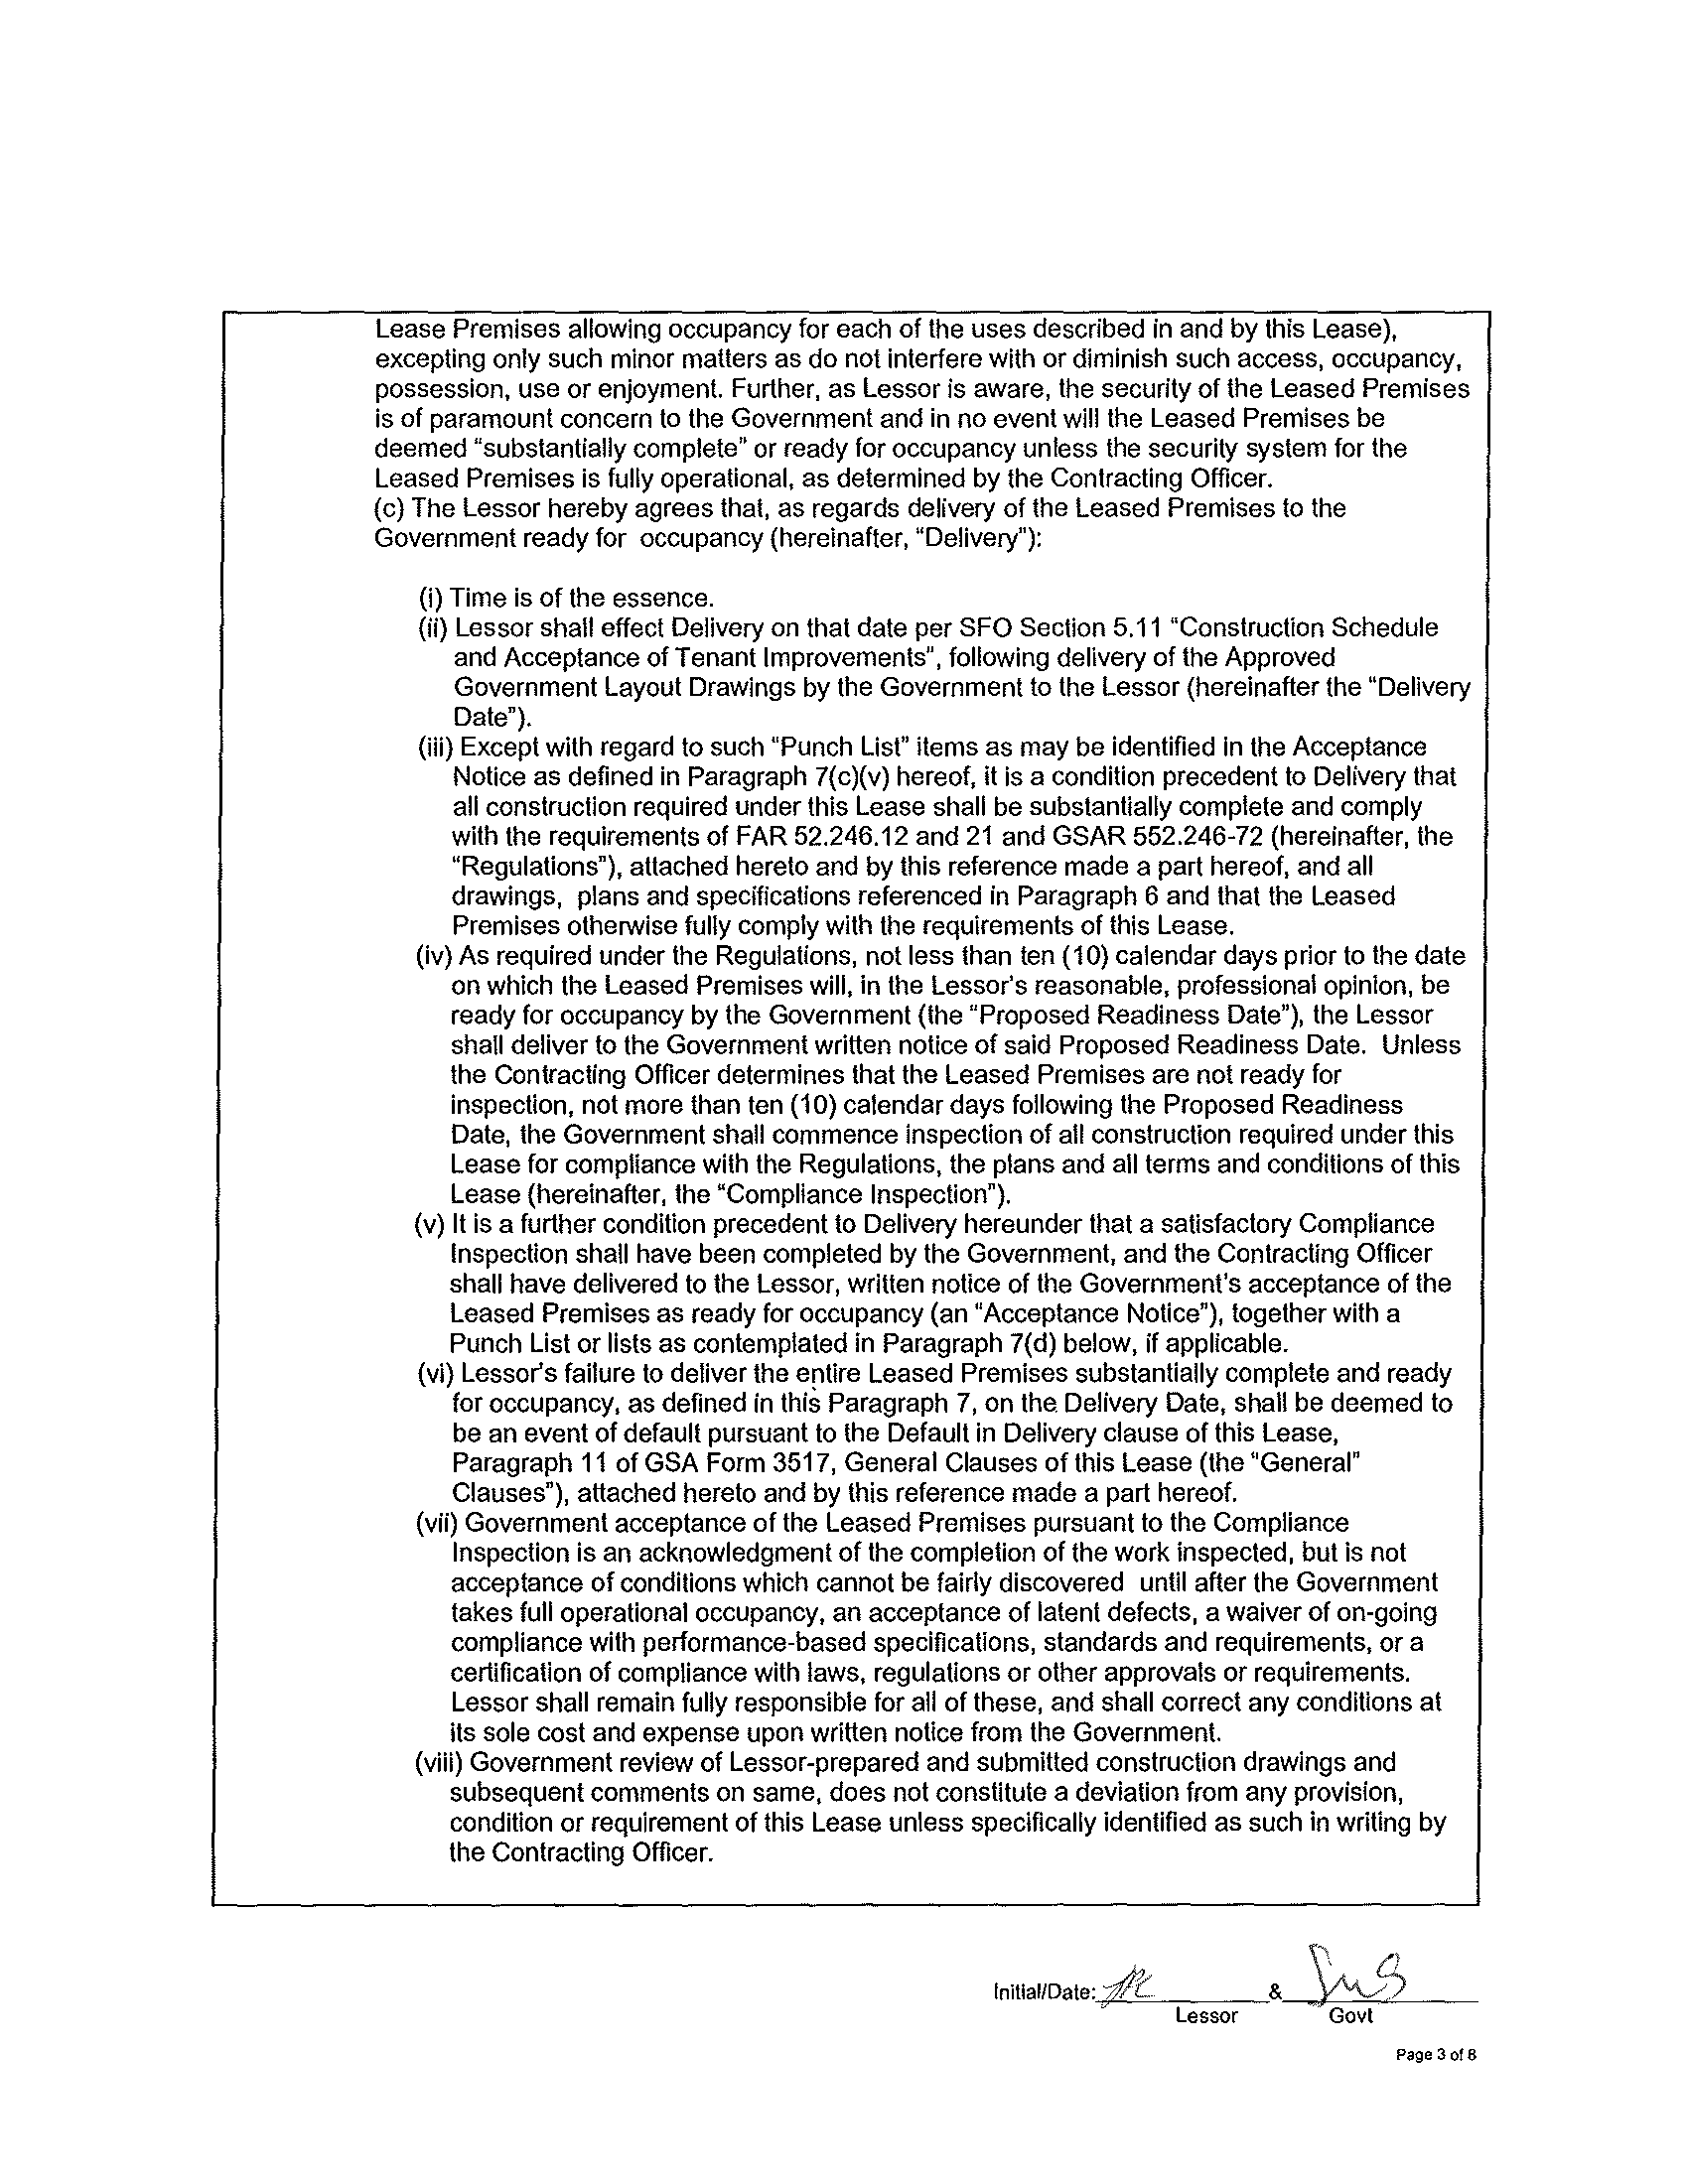handwritten: (1291, 1923, 1440, 2000), (1106, 1934, 1179, 2000)
